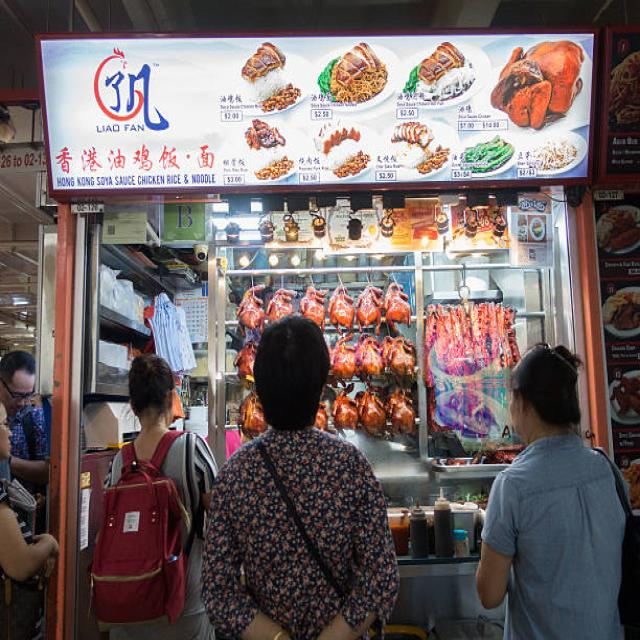Emperan: (23, 19, 610, 640)
